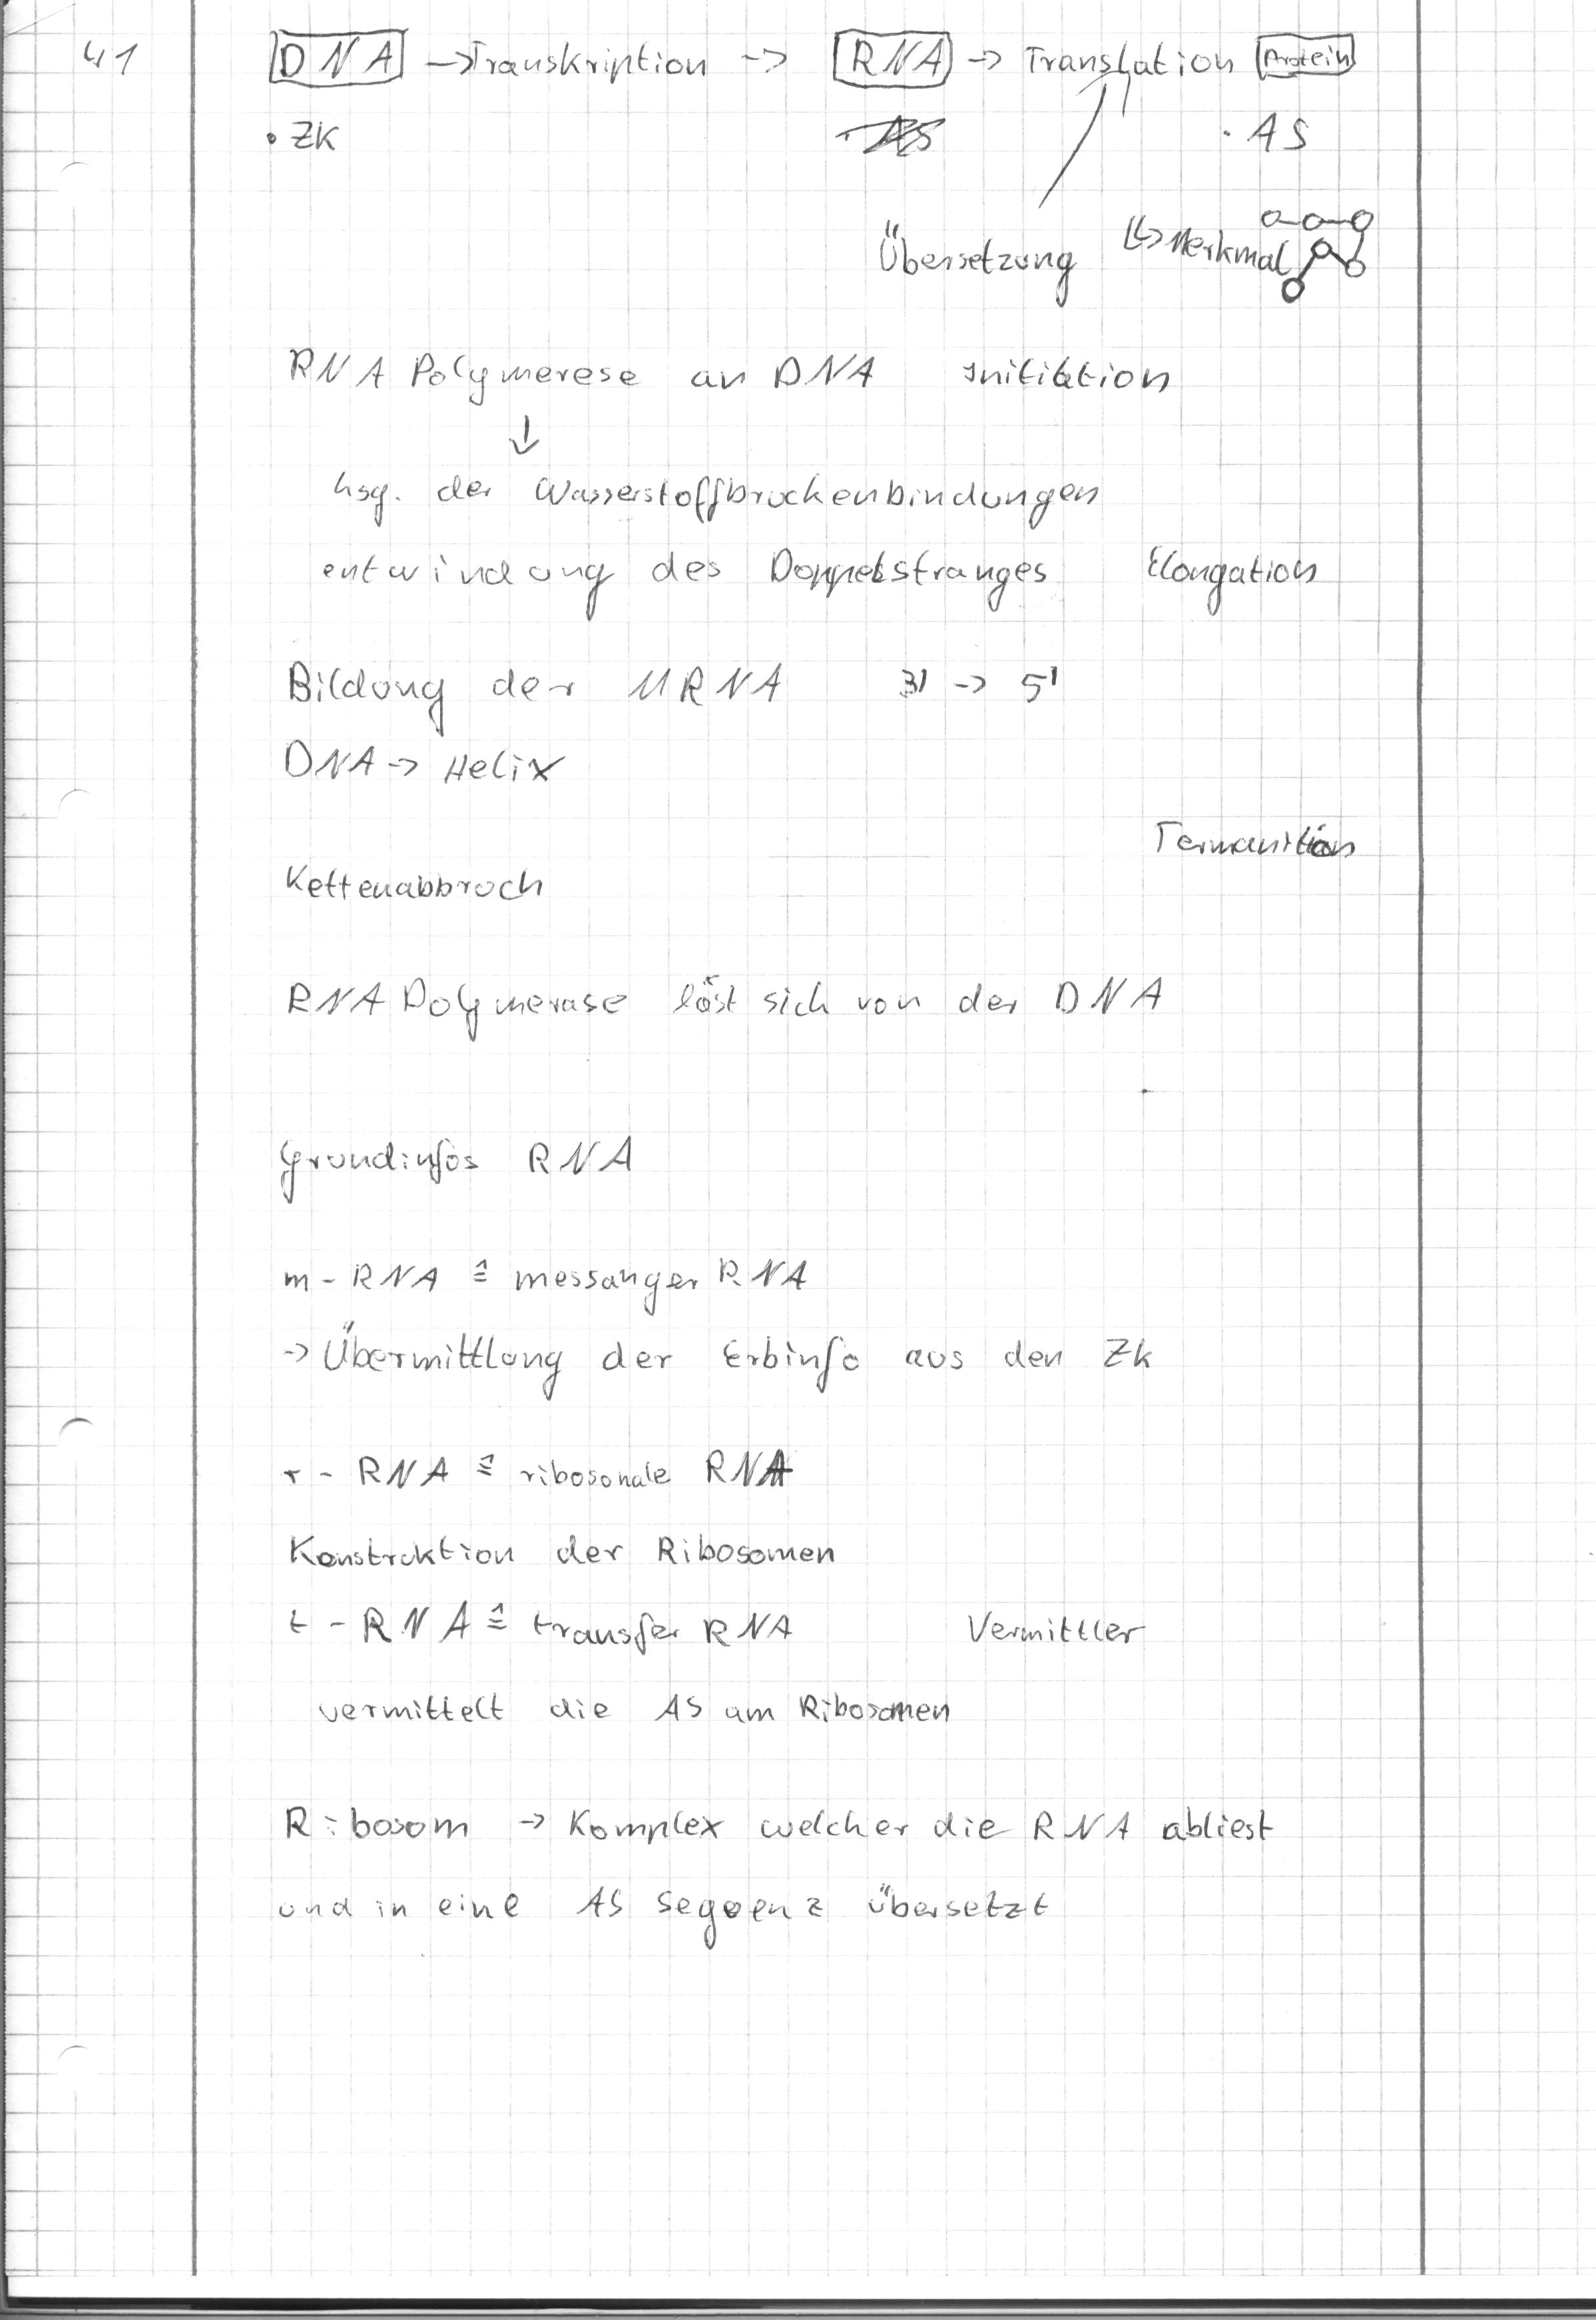word: (309, 452, 1329, 621), (268, 1791, 1279, 1958), (274, 1252, 1165, 1409), (274, 1445, 842, 1663), (282, 336, 1185, 463), (731, 23, 1358, 166), (274, 964, 1175, 1059), (244, 14, 716, 173), (266, 650, 595, 810), (856, 204, 1293, 314), (262, 1119, 651, 1222), (312, 1681, 955, 1733), (624, 651, 1073, 721), (274, 850, 553, 919), (1142, 803, 1370, 872), (957, 1598, 1156, 1655)
